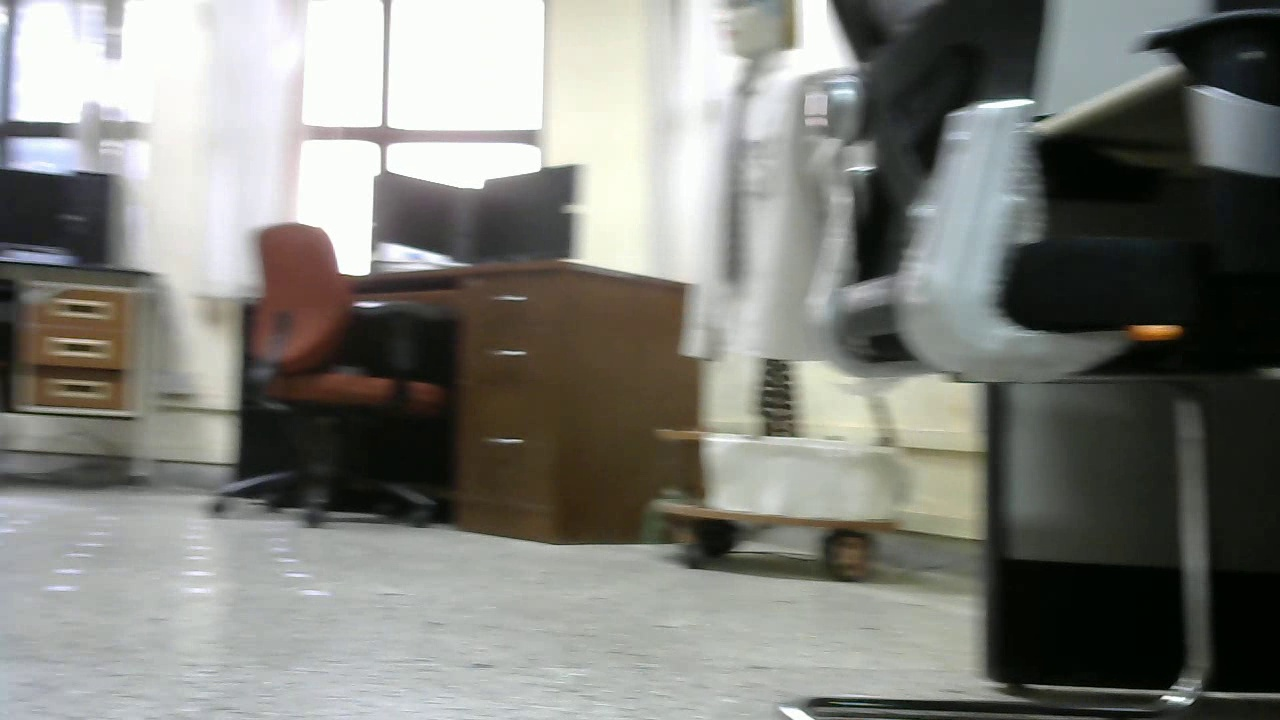chair: (791, 2, 1277, 720), (200, 220, 452, 524)
